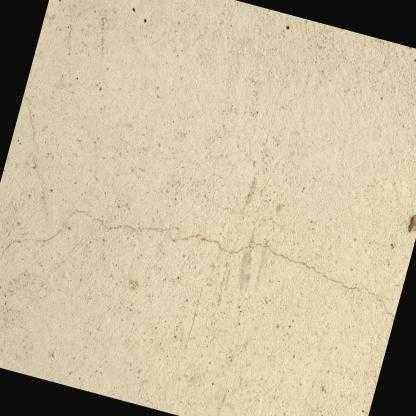crack: (0, 205, 395, 321)
